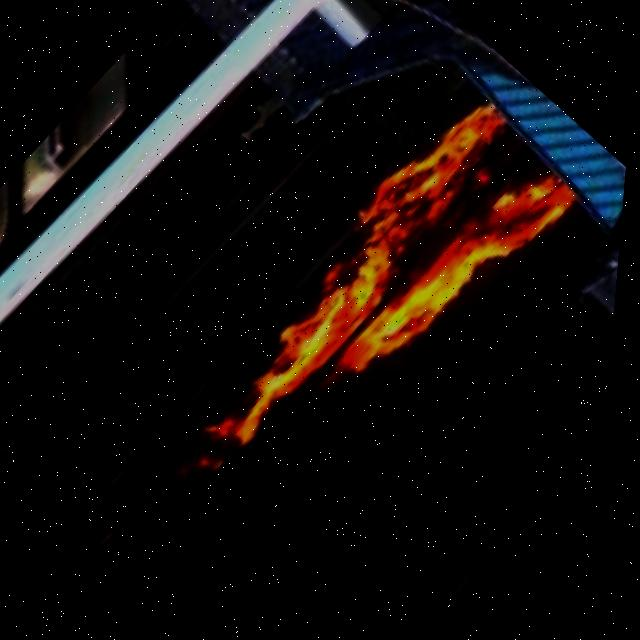Fire: (177, 85, 601, 515)
